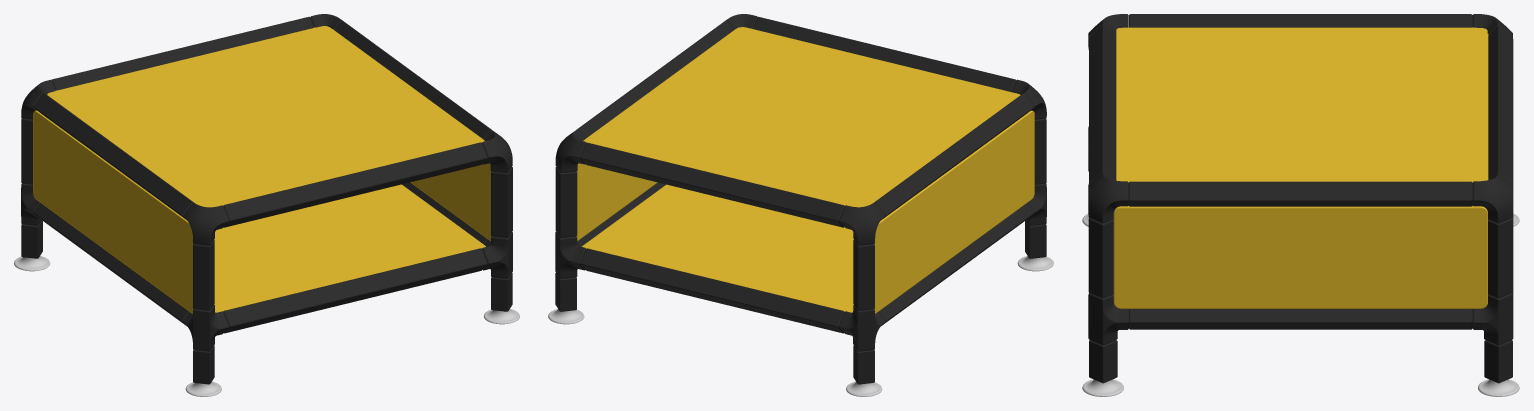
3 views of the same model, side by side, from view 1: azimuth 30°, elevation 25°; view 2: azimuth 150°, elevation 25°; view 3: azimuth 270°, elevation 25° (orthographic). The views are drawn at different scales.
Parts seen in each view (by area): view 1: 329x329x79; view 2: 329x329x79; view 3: 329x329x79.
Part boxes in pixels (<box>): 329x329x79: <box>14,14,519,396</box>; 329x329x79: <box>548,14,1053,396</box>; 329x329x79: <box>1082,14,1519,396</box>.
Size of the model in its own units: 0.4189 by 0.2183 by 0.4182.
